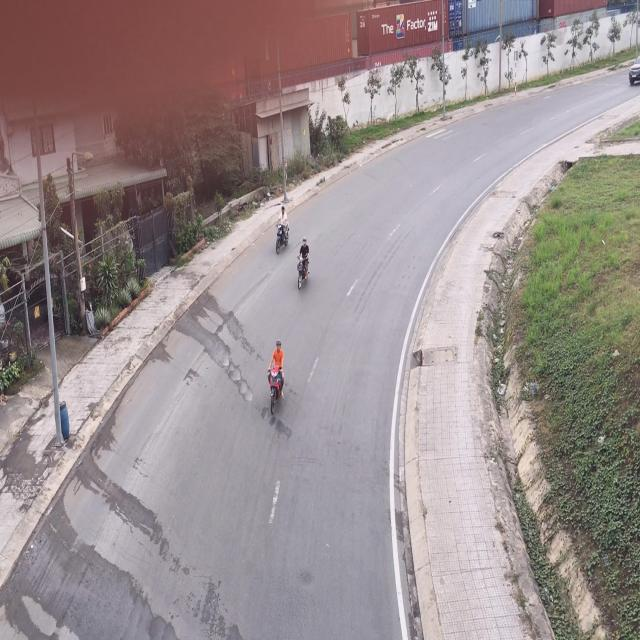car: (628, 62, 640, 88)
motorbike: (268, 342, 286, 424), (294, 238, 310, 292), (275, 208, 291, 256)
